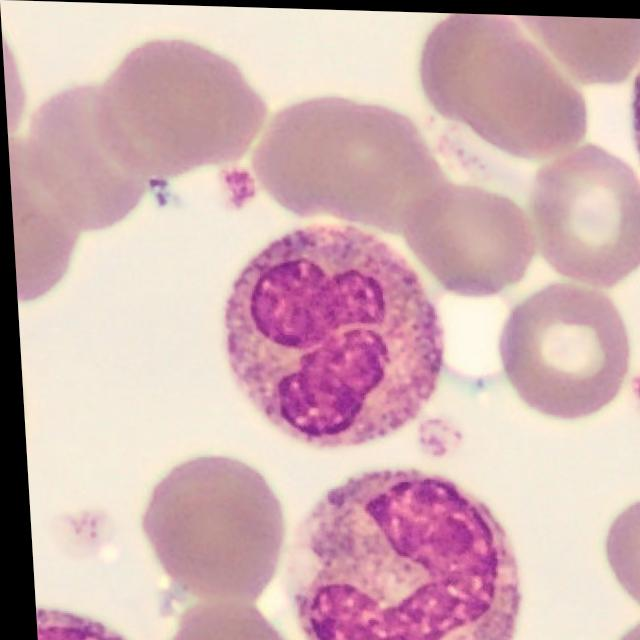Neutrofilo segmentado: (218, 218, 439, 443), (259, 468, 513, 640)
